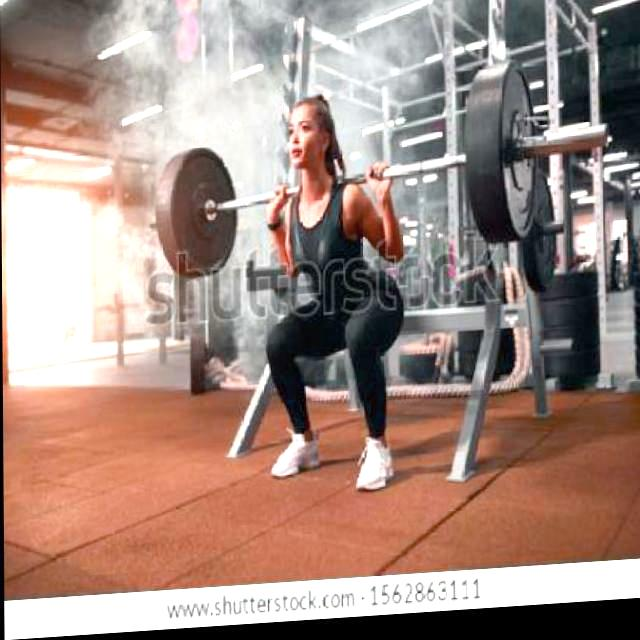barbell: (490, 55, 619, 255)
